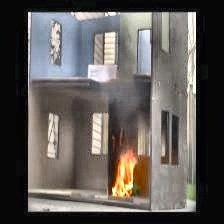fire: (106, 142, 144, 207)
